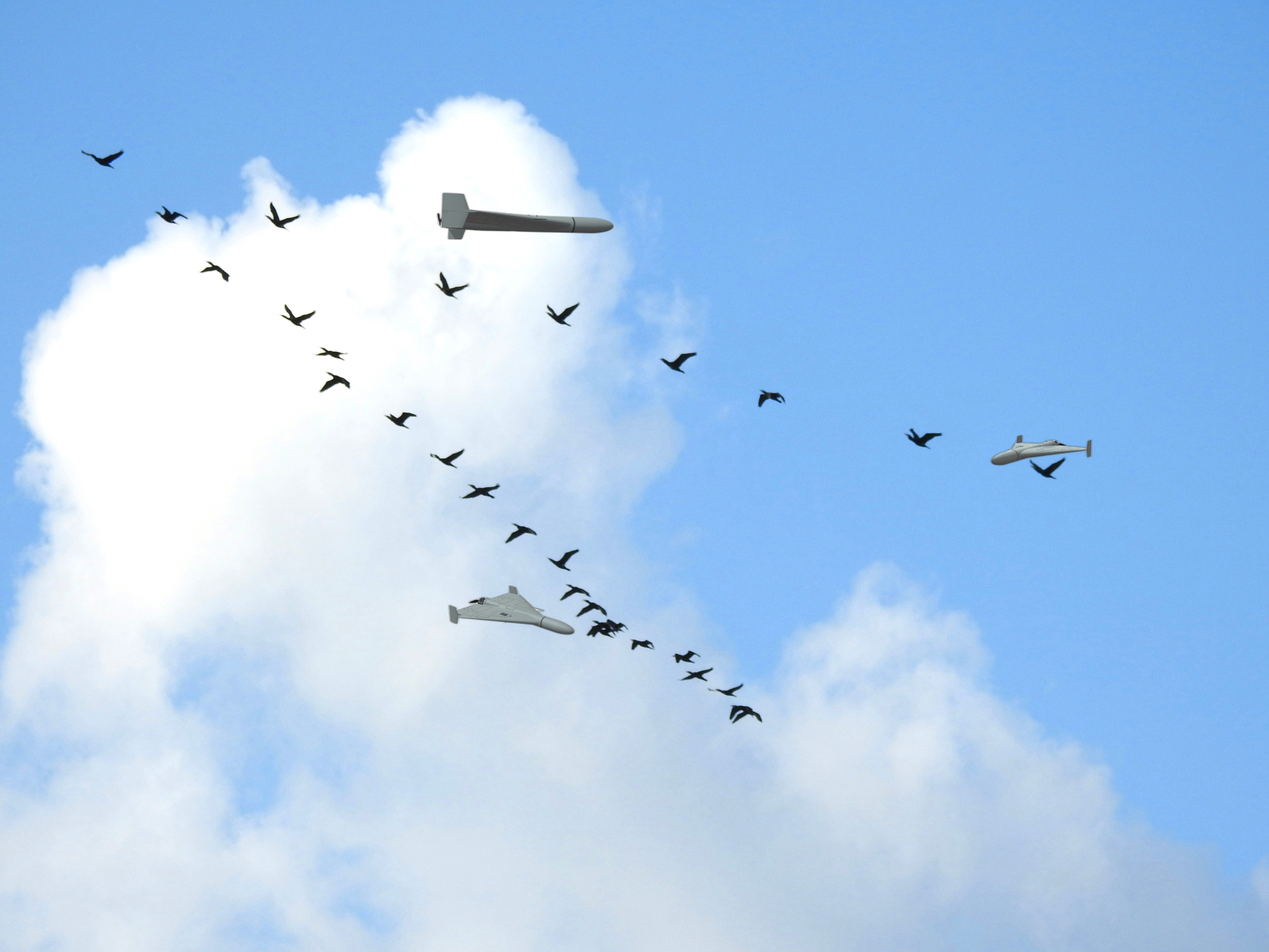shahed: (428, 185, 618, 248), (446, 581, 577, 642), (989, 432, 1100, 468)
